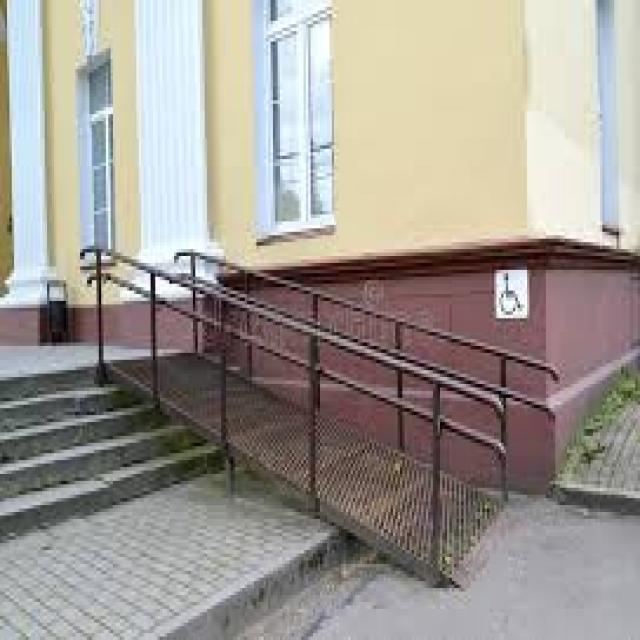AVOID: (0, 365, 221, 545)
CLIMB: (106, 355, 510, 593)
